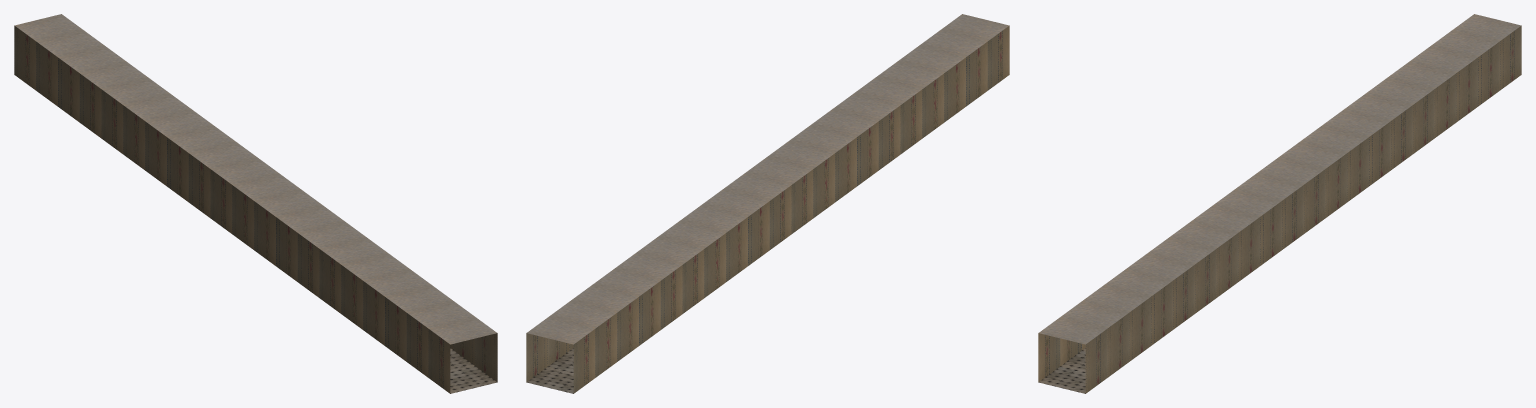
Rendered from HallwaySegment.obj.
The picture shows the model from 3 angles, left to right: view 1: azimuth 30°, elevation 25°; view 2: azimuth 150°, elevation 25°; view 3: azimuth 330°, elevation 25°; orthographic projection.
Parts seen in each view (by area): view 1: Hallway_Cube.001; view 2: Hallway_Cube.001; view 3: Hallway_Cube.001.
Boxes of the visible parts, x1,y1,x2,y2 form: Hallway_Cube.001: [14, 14, 497, 393]; Hallway_Cube.001: [526, 14, 1009, 393]; Hallway_Cube.001: [1038, 14, 1521, 393].
Bounding box in the file's own units: 5 × 5 × 80.
1 material, 1 textured.
